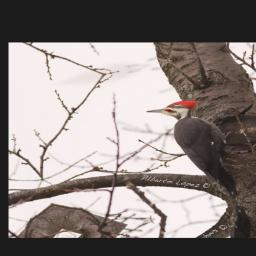Woodpecker: (142, 94, 251, 207)
